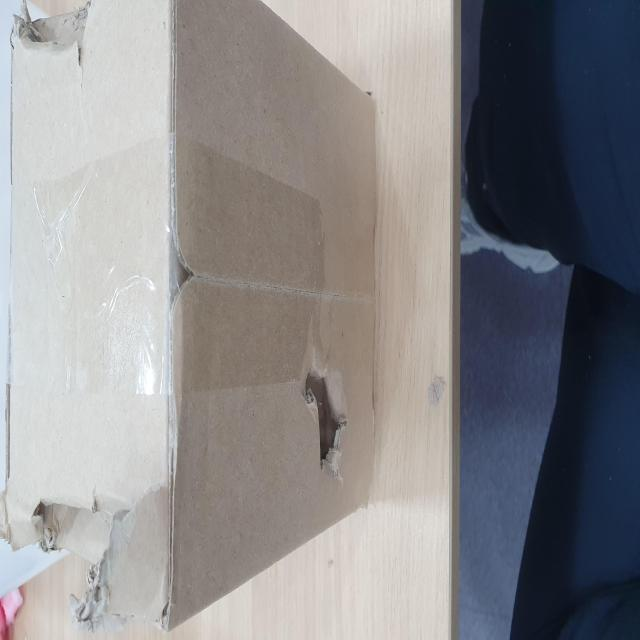damaged: (93, 519, 152, 633)
